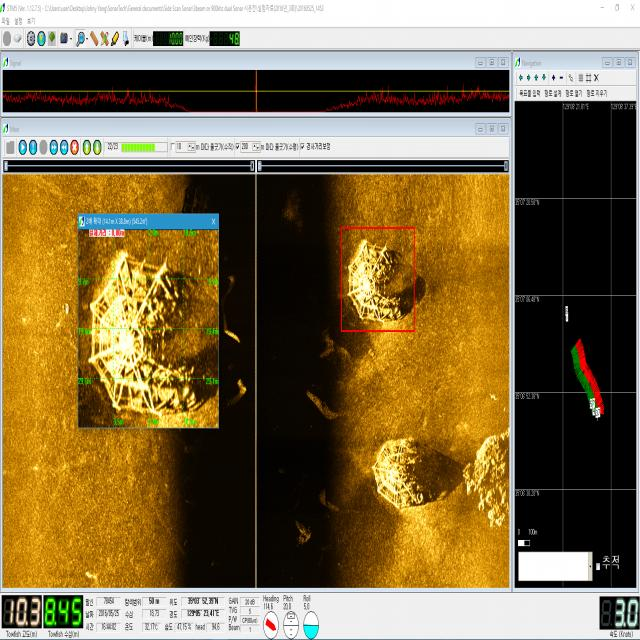other: (77, 233, 212, 425), (364, 417, 442, 523), (339, 226, 414, 329), (458, 410, 506, 540)
